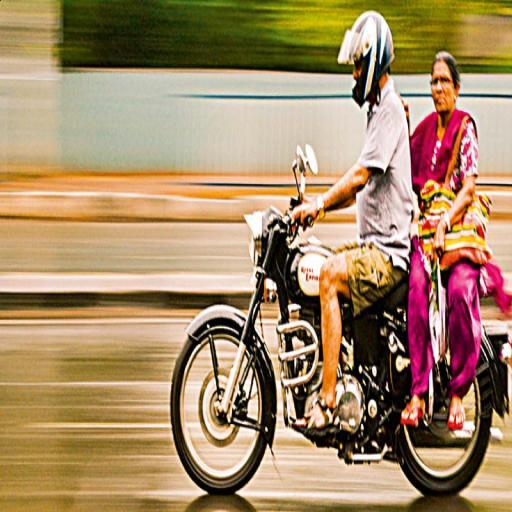helmet: (264, 4, 414, 481)
